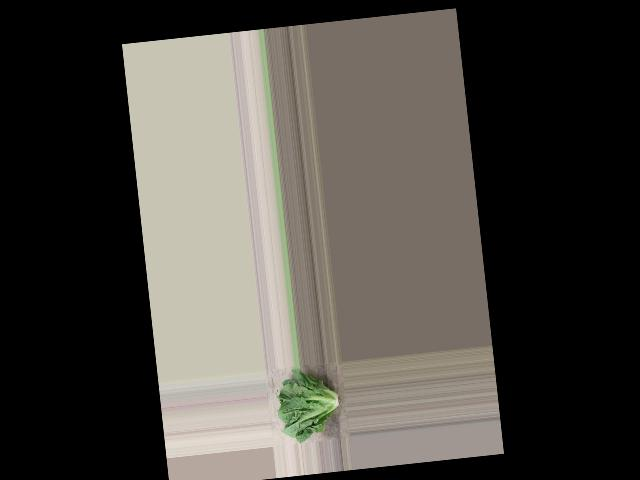lettuce: (271, 364, 347, 443)
